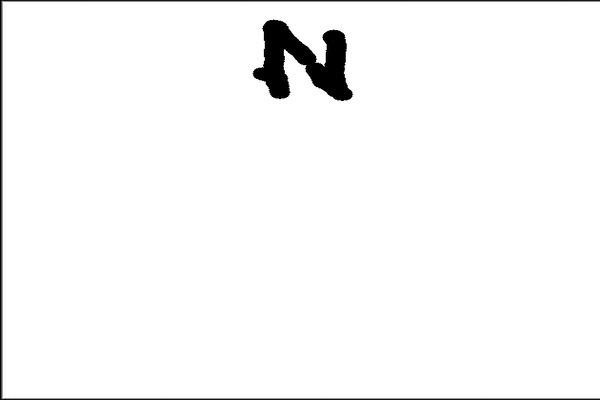N: (246, 11, 360, 112)
